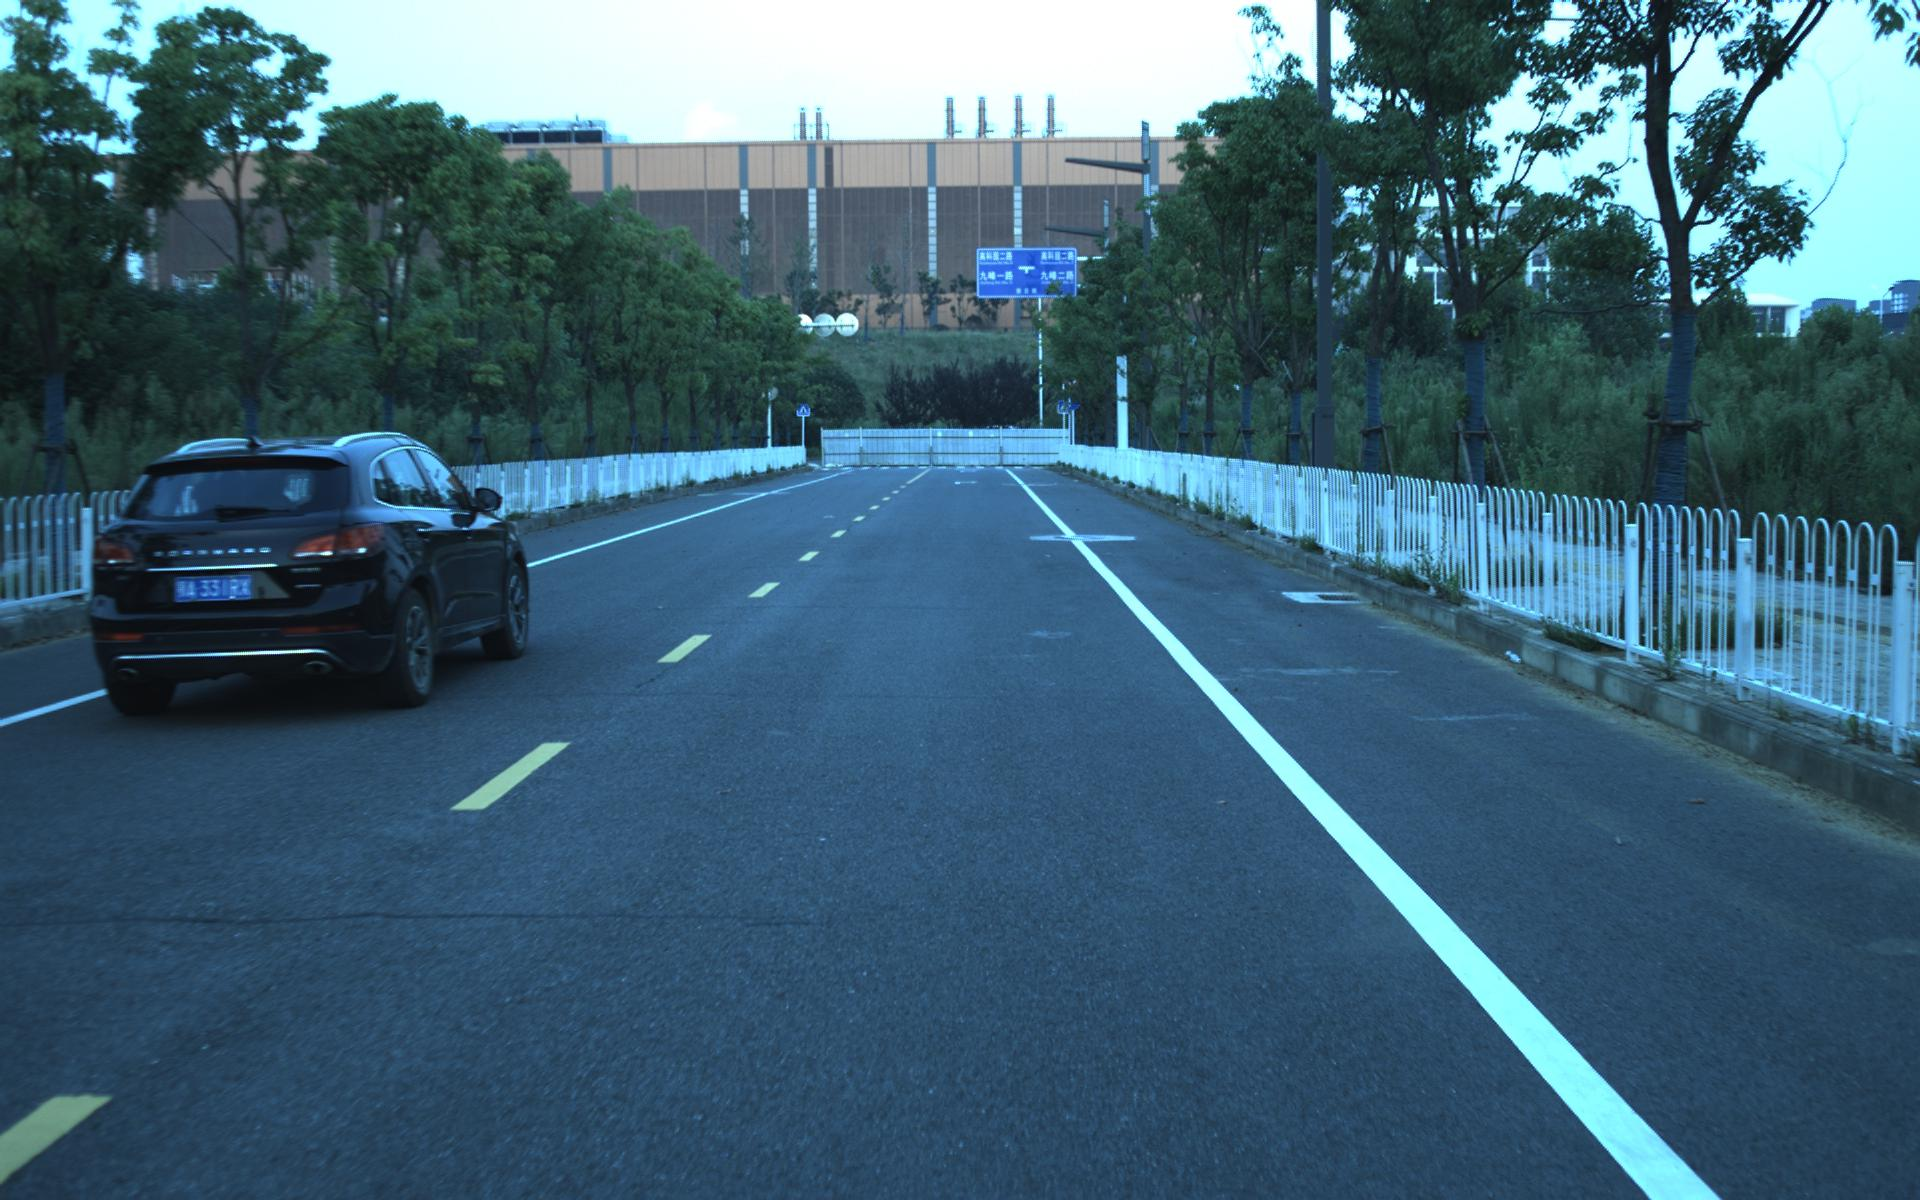Car: (66, 422, 536, 722)
